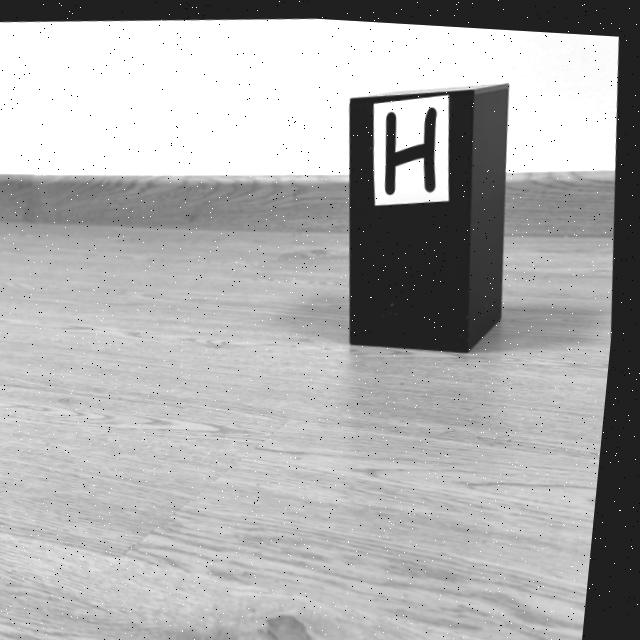H: (387, 102, 438, 189)
